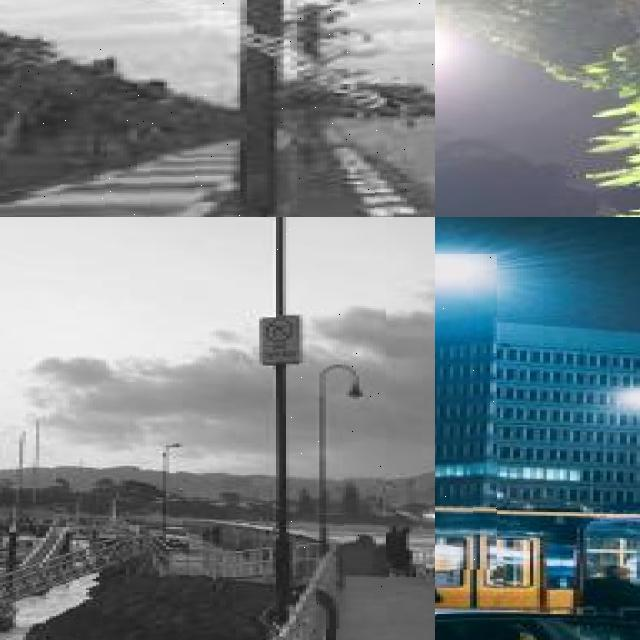street light: (0, 0, 435, 217), (276, 217, 386, 629), (435, 254, 496, 569), (319, 368, 361, 558), (616, 387, 640, 576), (163, 443, 181, 530)
